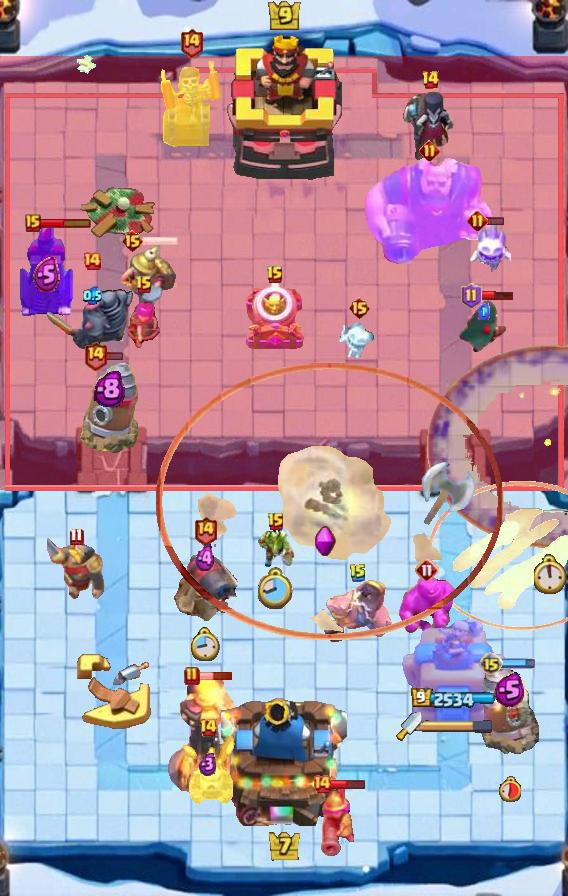bandit: (120, 241, 178, 311)
bar: (402, 615, 507, 731)
bat: (336, 316, 382, 360)
bomb-tower: (317, 781, 357, 857)
cannon: (128, 297, 160, 351)
electro-dragon: (166, 673, 246, 801)
electro-spirit: (494, 672, 525, 708), (95, 370, 125, 407), (33, 257, 59, 292), (195, 544, 217, 573), (199, 752, 217, 776), (83, 287, 102, 305), (478, 303, 490, 320)
elixir: (258, 567, 294, 611), (534, 554, 568, 594), (190, 627, 220, 661), (498, 776, 521, 802)
emote: (39, 217, 92, 229), (141, 235, 178, 247), (330, 778, 366, 790), (479, 290, 515, 301), (500, 658, 536, 669), (199, 671, 234, 681), (486, 216, 505, 226), (104, 351, 123, 361)
firecracker: (47, 539, 105, 602)
freeze: (321, 578, 395, 646)
goblin-cage: (243, 283, 307, 353)
golemite: (47, 271, 137, 351)
ice-spirit-evolution-symbol: (16, 224, 76, 320)
ice-wizard: (428, 482, 568, 631)
king-tower: (226, 33, 342, 181), (221, 690, 347, 826)
king-tower-bar: (422, 719, 494, 733)
lightning: (358, 155, 501, 269)
magic-archer: (79, 361, 139, 455), (479, 663, 539, 755)
mini-pekka: (178, 731, 238, 807)
mirror: (467, 219, 511, 273)
rascal-boy: (401, 89, 459, 161)
rocket: (428, 345, 568, 549)
royal-ghost: (157, 364, 503, 641)
royal-giant: (419, 459, 477, 531)
royal-giant-evolution: (171, 551, 239, 621)
selected: (412, 688, 497, 710)
skeleton-king-bar: (160, 58, 222, 150)
skeleton-king-skill: (314, 525, 336, 559)
tesla: (458, 299, 510, 355)
text: (83, 340, 108, 371), (193, 515, 218, 546), (179, 27, 204, 57), (415, 558, 439, 582), (479, 652, 503, 676), (120, 229, 143, 253), (349, 296, 372, 320), (462, 283, 483, 309), (419, 140, 440, 161), (467, 210, 488, 231), (82, 251, 102, 271), (312, 774, 332, 794), (420, 70, 439, 90), (198, 718, 217, 738), (266, 265, 284, 285), (135, 275, 153, 295), (267, 512, 285, 532), (349, 563, 367, 583), (184, 666, 200, 686), (25, 214, 41, 232), (69, 526, 83, 545)
tornado: (399, 575, 455, 635)
zap: (256, 529, 296, 569)
